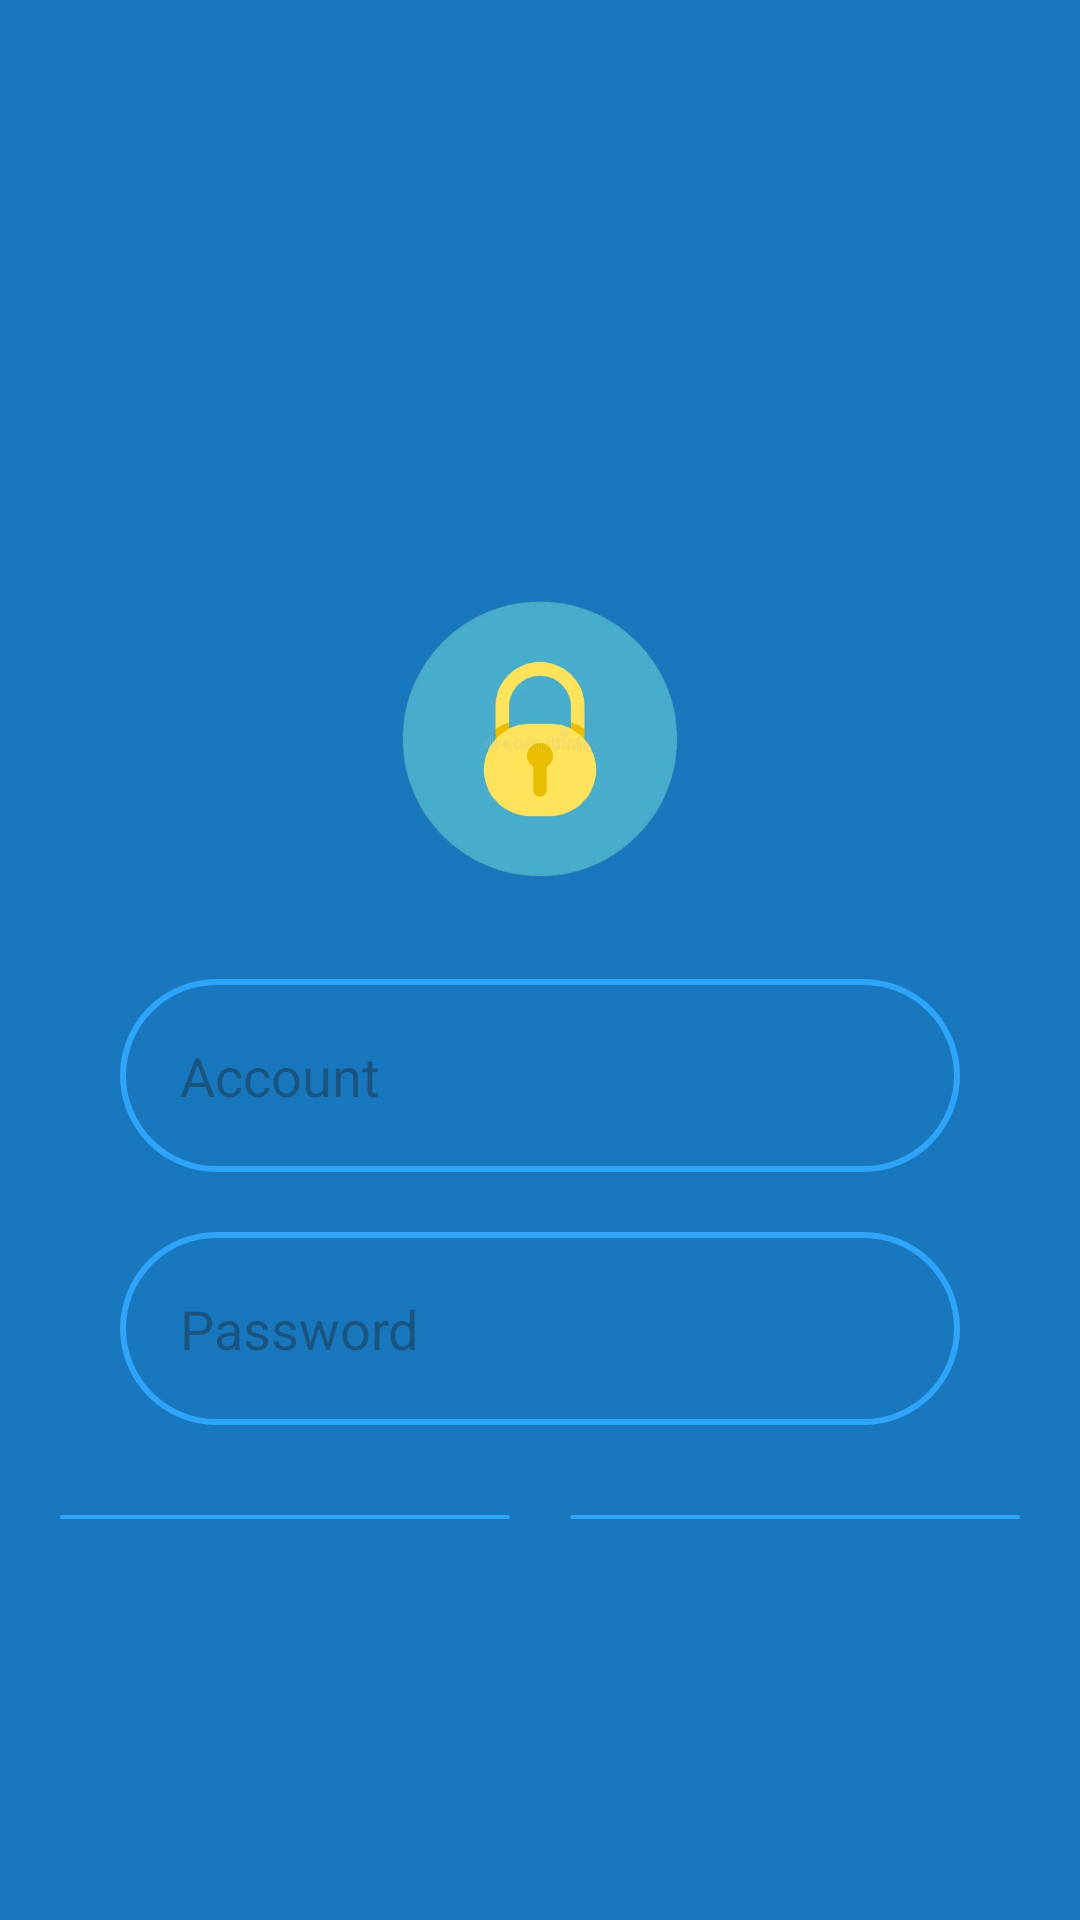

Icons on this 1080x1920 Android screen, each with the point to tap as (x,y):
login: (540,739)
